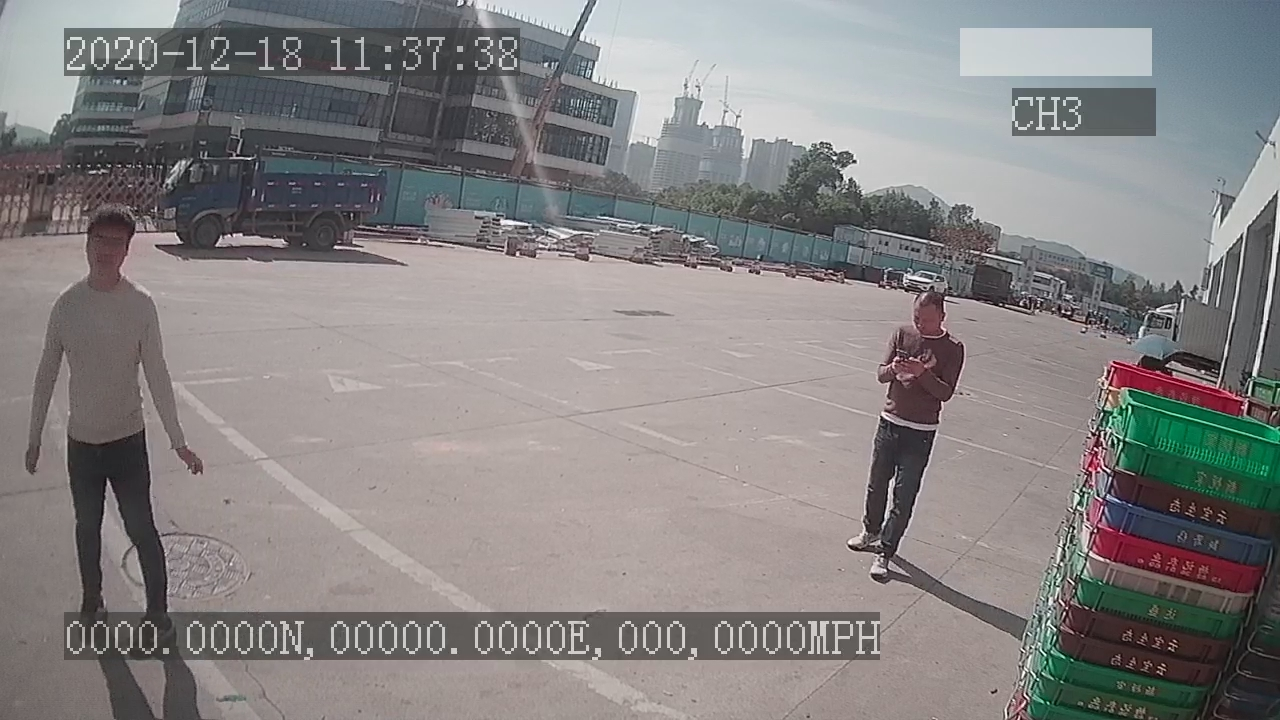person: (843, 289, 965, 579)
